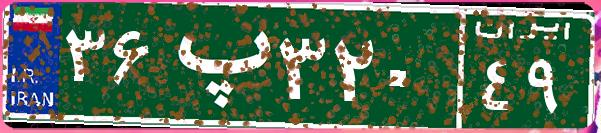0: (385, 28, 445, 110)
2: (330, 28, 385, 110)
3: (273, 28, 330, 110), (57, 26, 110, 107)
4: (475, 38, 525, 113)
6: (110, 28, 158, 105)
9: (525, 38, 570, 115)
پ: (158, 15, 273, 115)
